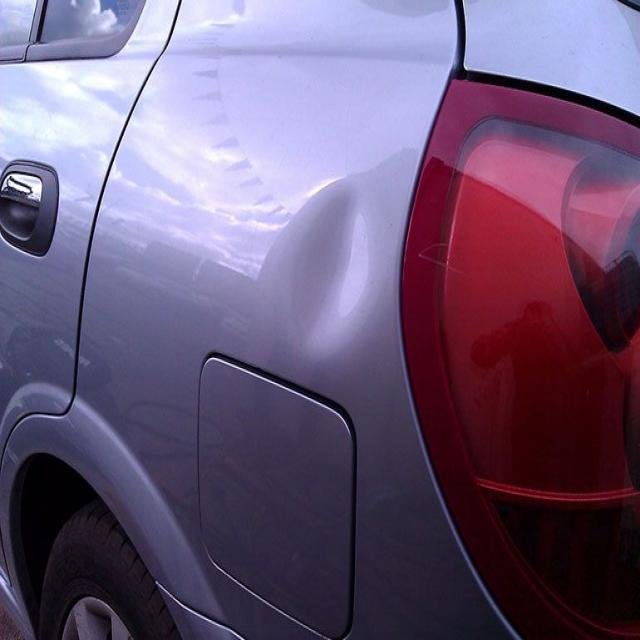dent: (253, 170, 393, 376)
